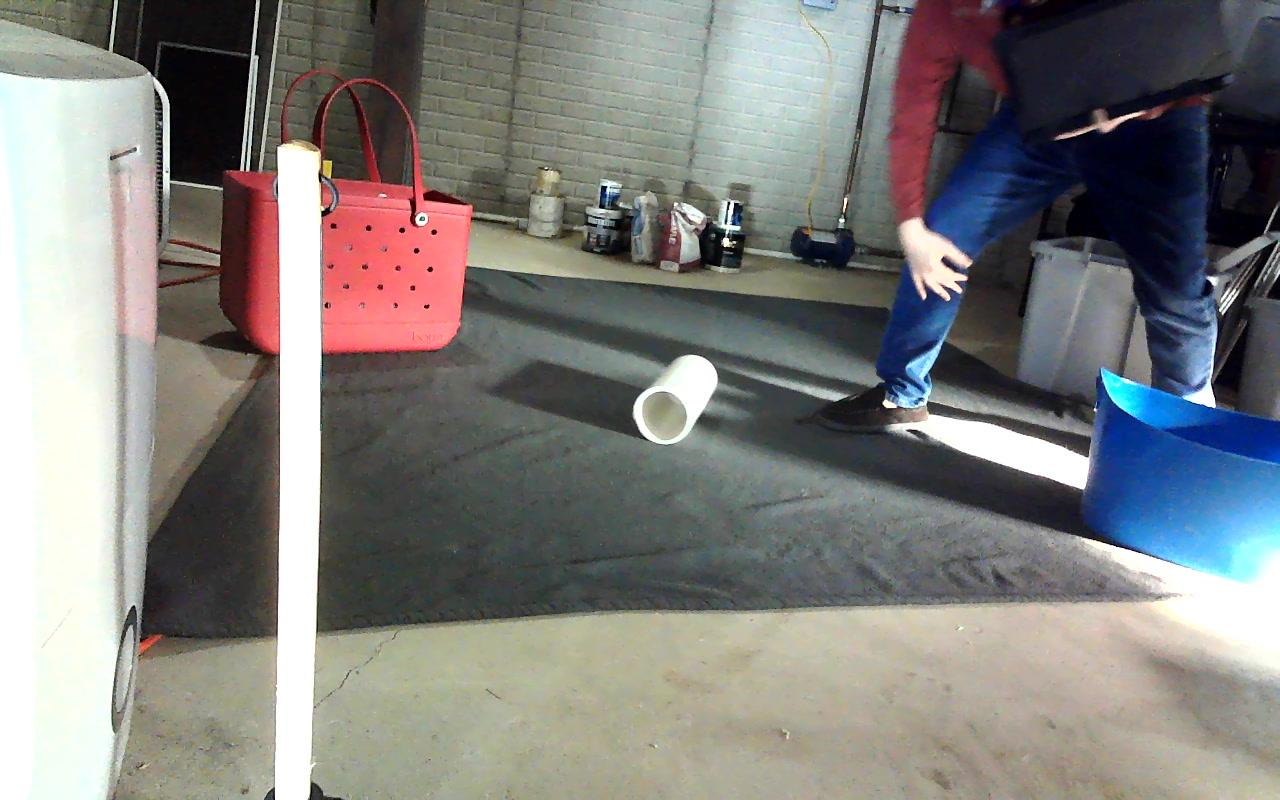coral: (633, 355, 717, 444)
